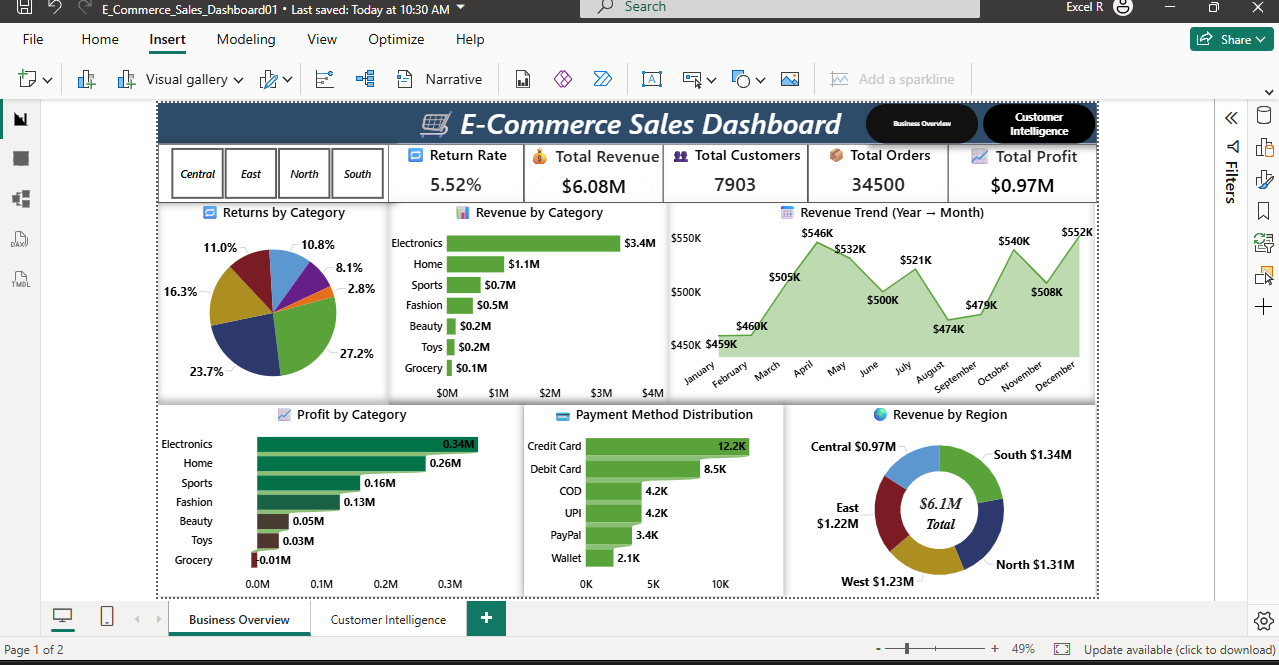

What the dashboard file says about the page in this screenshot:
{"tool":"powerbi","page":{"name":"Business Overview","canvas":[1900,1000],"ordinal":0},"visuals":[{"type":"cardVisual","title":"💰 Total Revenue","fields":{"Data":["E_Commerce_Sales_Datasets.Total_Revenue"]},"box":[741,83.3,281.5,119.4],"z":0},{"type":"card","title":"📦 Total Orders","fields":{"Values":["Date_Table.Total_Orders"]},"box":[1315.3,83.3,283.8,119.4],"z":1000},{"type":"card","title":"👥 Total Customers","fields":{"Values":["Date_Table.Total_Customer"]},"box":[1022.5,83.3,292.8,119.4],"z":2000},{"type":"card","title":"📈 Total Profit","fields":{"Values":["Date_Table.Total_Profit"]},"box":[1599.1,83.3,301.8,119.4],"z":3000},{"type":"clusteredBarChart","title":"📊 Revenue by Category","fields":{"Category":["E_Commerce_Sales_Datasets.category"],"Y":["Sum(E_Commerce_Sales_Datasets.Revenue)"]},"box":[465.6,202.4,568.8,408.9],"z":4000},{"type":"areaChart","title":"📅 Revenue Trend (Year → Month)","fields":{"Category":["Date_Table.Date.Variation.Date Hierarchy.Year","Date_Table.Date.Variation.Date Hierarchy.Quarter","Date_Table.Date.Variation.Date Hierarchy.Month","Date_Table.Date.Variation.Date Hierarchy.Day"],"Y":["Sum(E_Commerce_Sales_Datasets.Revenue)"]},"box":[1032.4,202.4,864.4,408.9],"z":5000},{"type":"donutChart","title":"🌍 Revenue by Region","fields":{"Y":["Sum(E_Commerce_Sales_Datasets.Revenue)"],"Category":["E_Commerce_Sales_Datasets.region"]},"box":[1265.8,610.4,632.9,389.6],"z":6000},{"type":"card","fields":{"Values":["Sum(E_Commerce_Sales_Datasets.Revenue)"]},"box":[1518.2,783.4,129.6,85],"z":7000},{"type":"shape","title":"🛒 E-Commerce Sales Dashboard","box":[0,0,1900,84.3],"z":8000},{"type":"barChart","title":"📈 Profit by Category","fields":{"Category":["E_Commerce_Sales_Datasets.category"],"Y":["Sum(E_Commerce_Sales_Datasets.profit_margin)"]},"box":[0,611.5,740.3,386.6],"z":9000},{"type":"barChart","title":"💳 Payment Method Distribution","fields":{"Category":["E_Commerce_Sales_Datasets.payment_method"],"Y":["Date_Table.Total_Orders"]},"box":[741,610.4,524.8,387.4],"z":9001},{"type":"pieChart","title":"🔁 Returns by Category","fields":{"Category":["E_Commerce_Sales_Datasets.category"],"Y":["Date_Table.Returned Orders"]},"box":[0,202.4,465.6,408.9],"z":9002},{"type":"slicer","fields":{"Values":["E_Commerce_Sales_Datasets.region"]},"box":[0,83.3,482,119.4],"z":9003},{"type":"card","title":"🔁 Return Rate","fields":{"Values":["Date_Table.Return_Rate"]},"box":[466.2,83.3,274.8,119.4],"z":9004},{"type":"pageNavigator","box":[1433.2,2,465.6,81],"z":9005}]}

Visuals, with their boxes on the page's 1900x1000 design canvas (x1, y1, x2, y2). These are canvas units, not pixel positions in the 1279x665 screenshot, which may show the page scaled, cropped or inside an application window:
"💰 Total Revenue" cardVisual: detection(741, 83, 1022, 203)
"📦 Total Orders" card: detection(1315, 83, 1599, 203)
"👥 Total Customers" card: detection(1022, 83, 1315, 203)
"📈 Total Profit" card: detection(1599, 83, 1901, 203)
"📊 Revenue by Category" clusteredBarChart: detection(466, 202, 1034, 611)
"📅 Revenue Trend (Year → Month)" areaChart: detection(1032, 202, 1897, 611)
"🌍 Revenue by Region" donutChart: detection(1266, 610, 1899, 1000)
card - Sum(E_Commerce_Sales_Datasets.Revenue): detection(1518, 783, 1648, 868)
"🛒 E-Commerce Sales Dashboard" shape: detection(0, 0, 1900, 84)
"📈 Profit by Category" barChart: detection(0, 612, 740, 998)
"💳 Payment Method Distribution" barChart: detection(741, 610, 1266, 998)
"🔁 Returns by Category" pieChart: detection(0, 202, 466, 611)
slicer - E_Commerce_Sales_Datasets.region: detection(0, 83, 482, 203)
"🔁 Return Rate" card: detection(466, 83, 741, 203)
pageNavigator: detection(1433, 2, 1899, 83)
